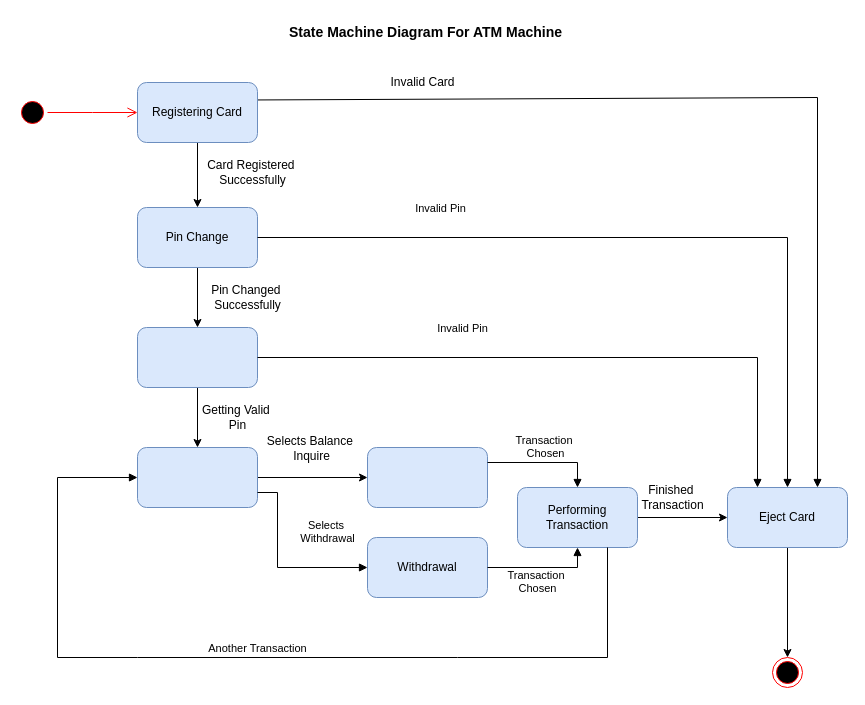
This 865x705 diagram has some shape labels left out. Each missing label, with the box of its shape:
Authenticated: (136, 446, 258, 508)
Balance Inquire: (366, 446, 488, 508)
Reading Pin: (136, 326, 258, 388)
